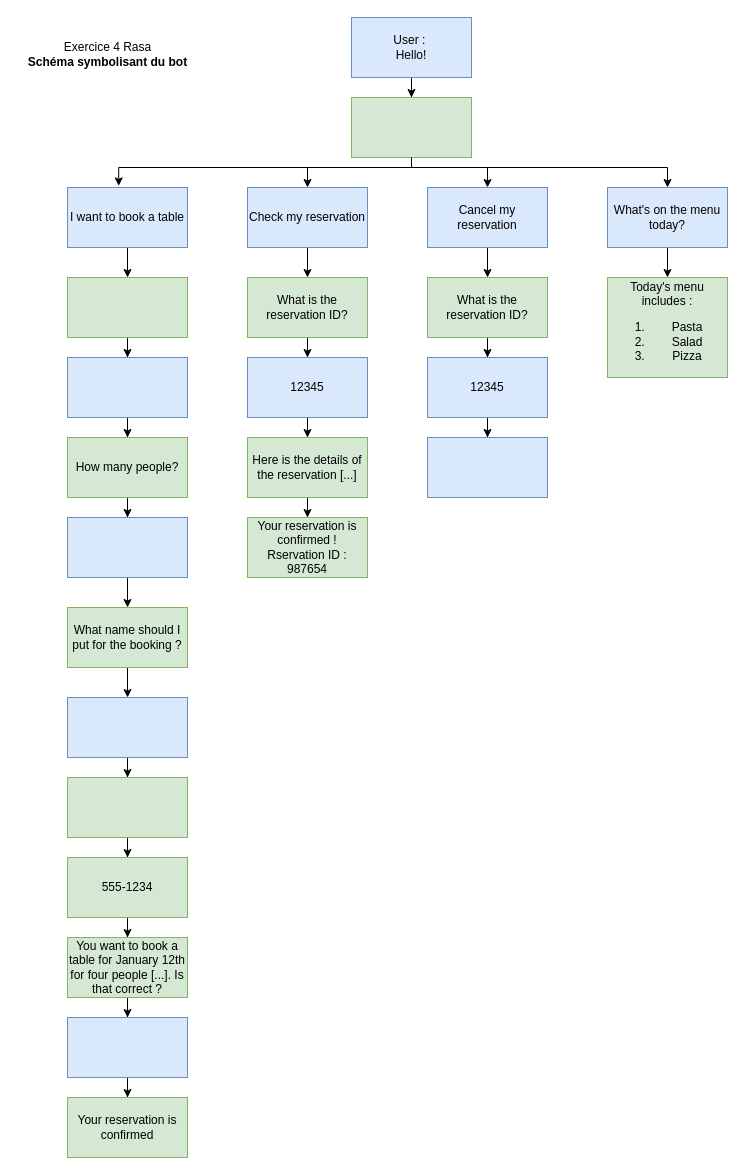
Image size: 745x1175. Some labels were removed from this diagram. Each missing label, with the box of its shape:
Bot : Hello! How can I assist you today?: (350, 96, 472, 158)
Four people: (66, 516, 188, 578)
John Doe: (66, 696, 188, 758)
On January 12th: (66, 356, 188, 418)
The reservation has been caceled.: (426, 436, 548, 498)
What is your phone?: (66, 776, 188, 838)
Which date would you like to book?: (66, 276, 188, 338)
Yes: (66, 1016, 188, 1078)
